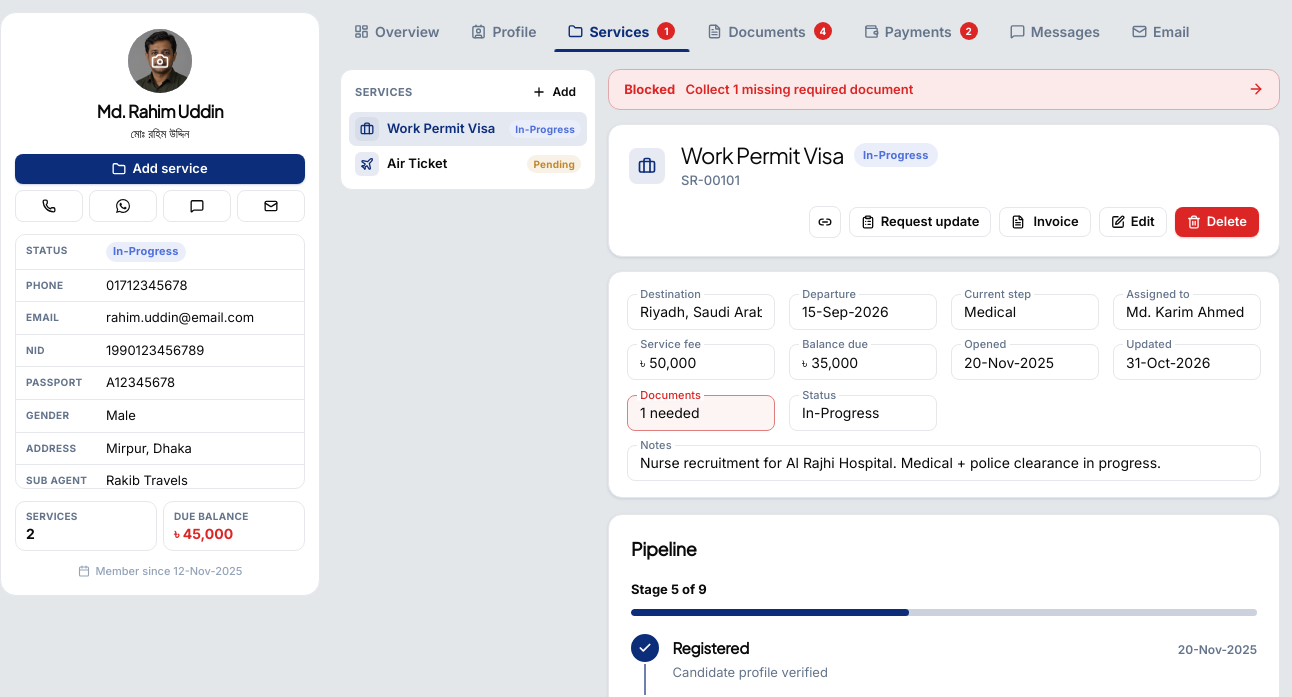
Test: service detail › opens documents from the blocked service board ribbon
What coordinates should you click on to do the following:
click the button "Blocked Collect 1 missing required document"
I would click on:
 (650, 89)
Its box is [608,69,1280,110].
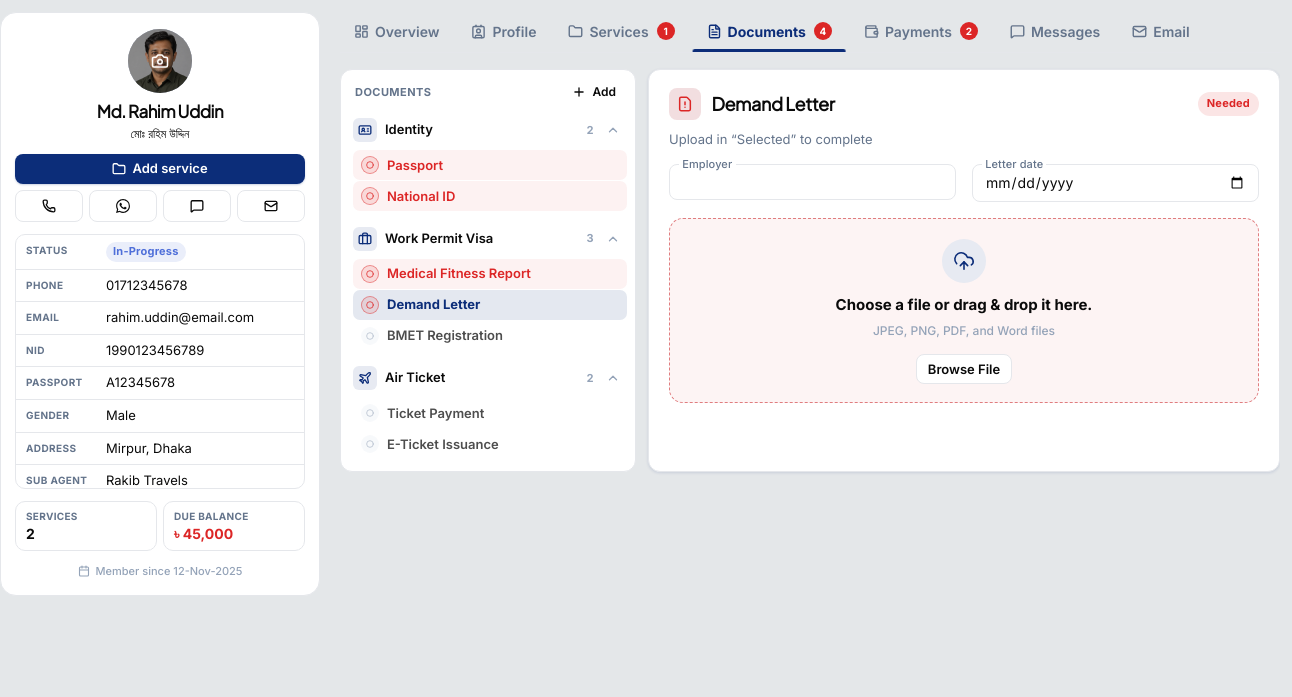
Expected: the element named "Md. Rahim Uddin documents" is shown, [340,69,1280,472]
